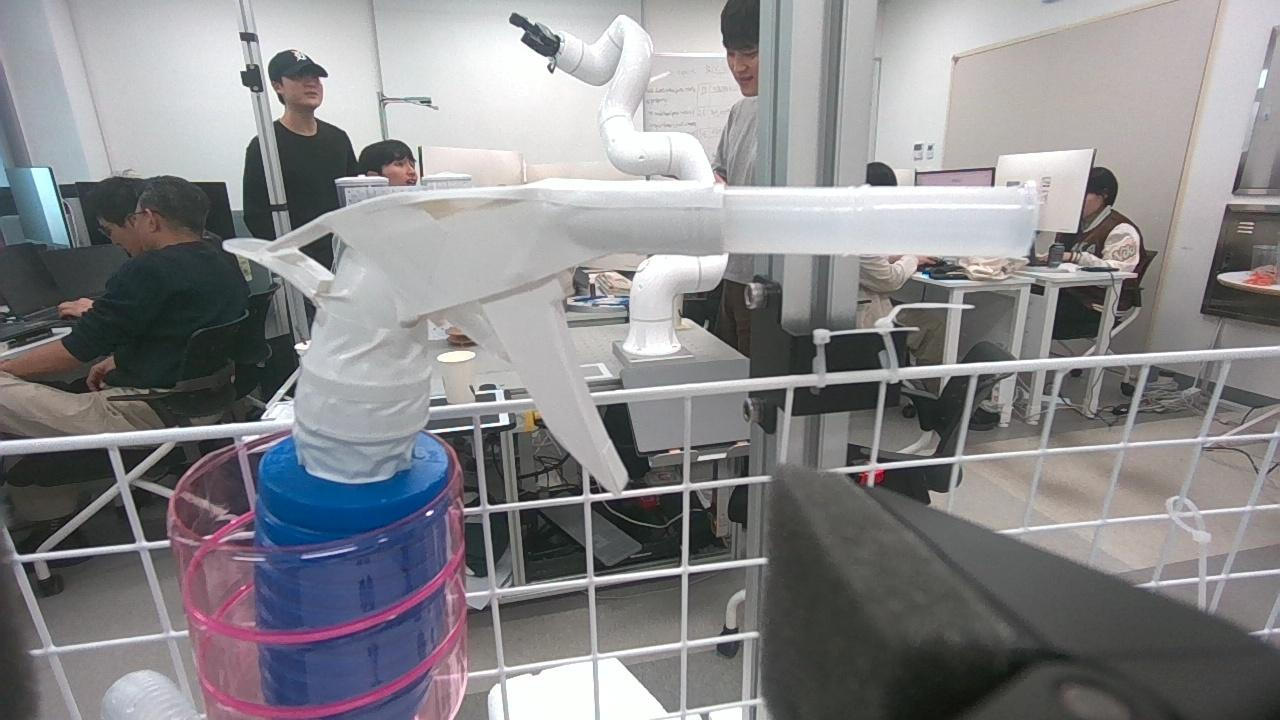Nozzle: (220, 177, 735, 719)
